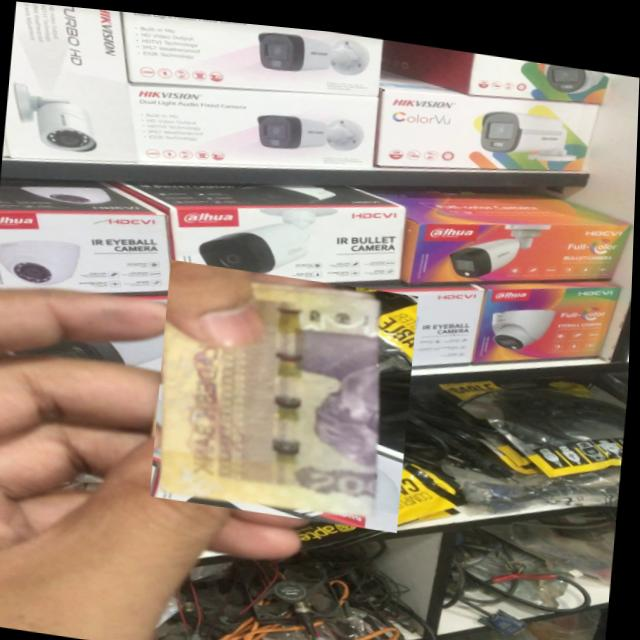Taka: (153, 255, 420, 526)
